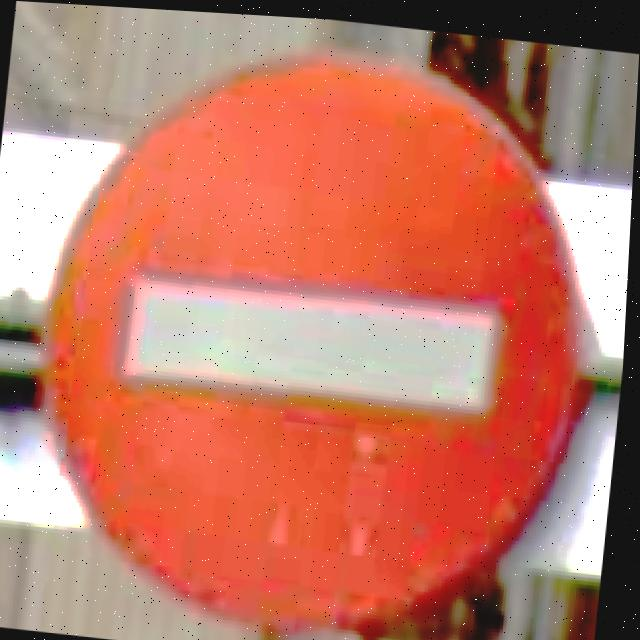noentry: (52, 54, 584, 624)
